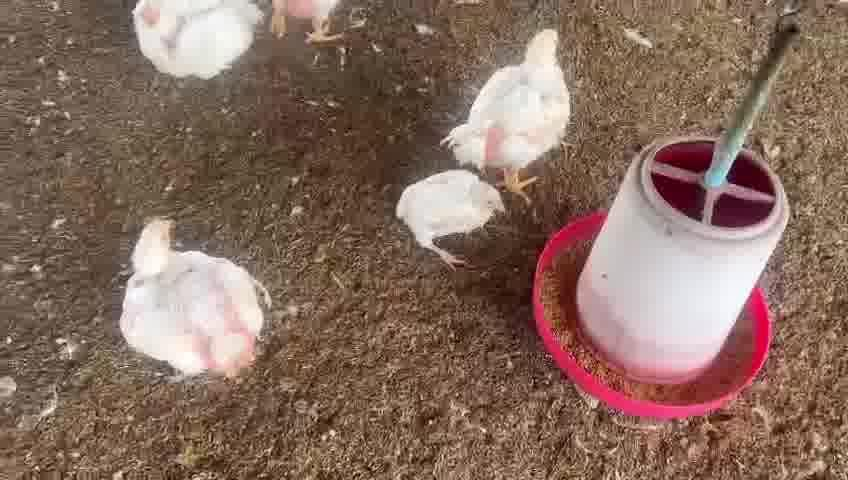AbNormal: (118, 211, 267, 376), (401, 169, 501, 268), (130, 3, 259, 78)
Normal: (451, 29, 562, 199), (271, 3, 346, 42)
